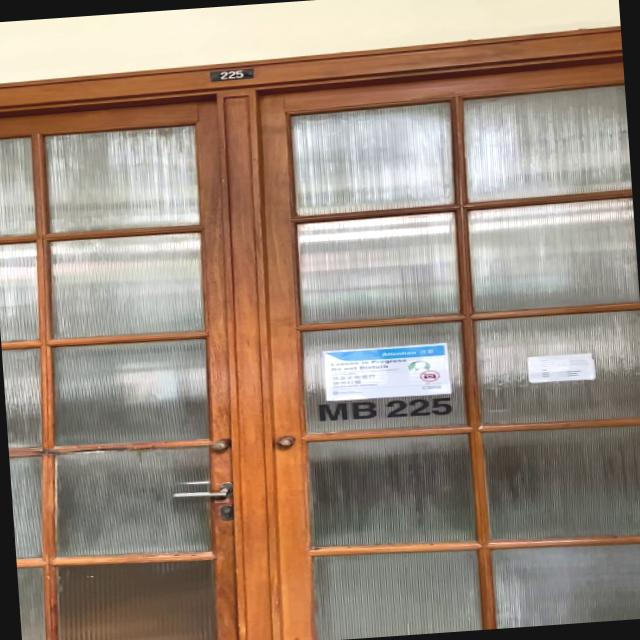room225: (204, 66, 257, 82)
room225Window: (313, 393, 453, 428)
